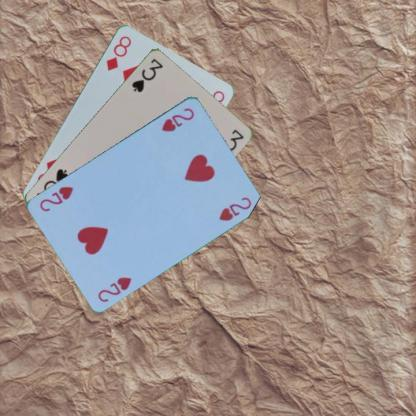2h: (96, 274, 134, 303), (159, 104, 196, 133)
3s: (129, 55, 165, 93)
8d: (103, 33, 133, 72)
